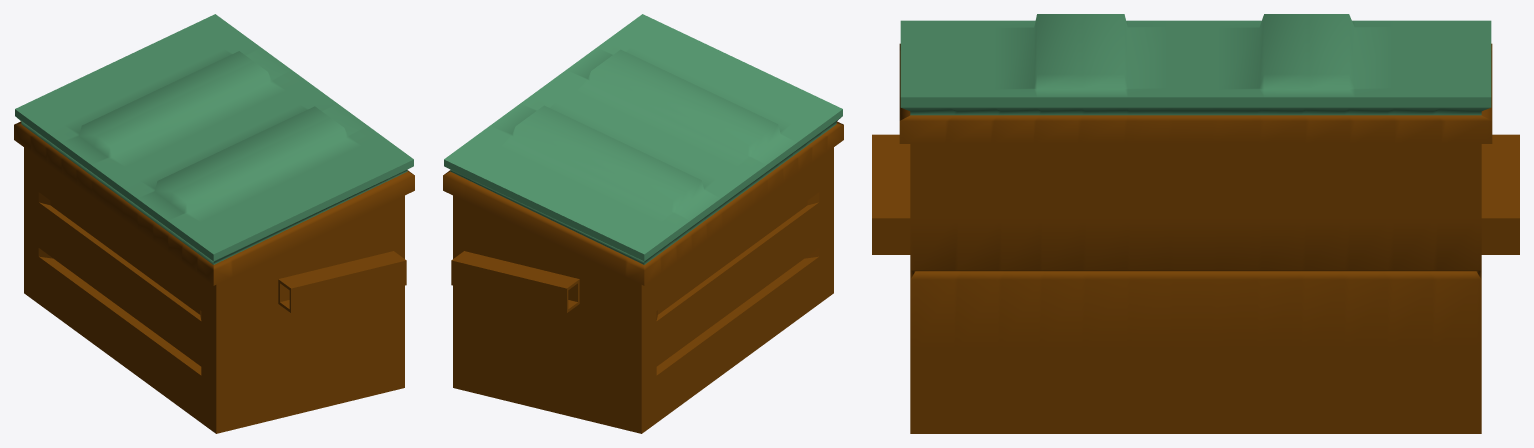
The model's file is Dumpster.fbx.
3 renders of one model, left to right at view 1: azimuth 30°, elevation 25°; view 2: azimuth 150°, elevation 25°; view 3: azimuth 270°, elevation 25°, orthographic. The views are drawn at different scales.
Visible parts, largest first — view 1: pCube1; view 2: pCube1; view 3: pCube1.
Boxes of the visible parts, x1,y1,x2,y2 form: pCube1: (14, 14, 414, 433); pCube1: (443, 14, 843, 433); pCube1: (872, 14, 1519, 433).
Size of the model in its own units: 5.19 by 5.75 by 9.75.
